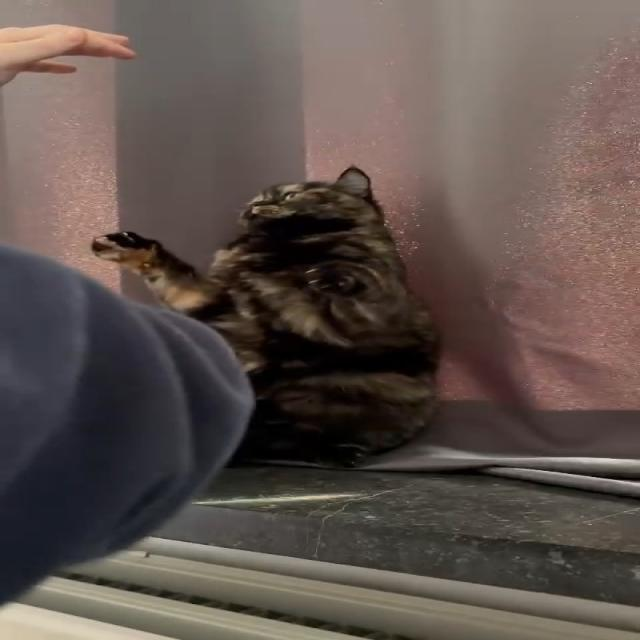authorized: (89, 164, 444, 468)
